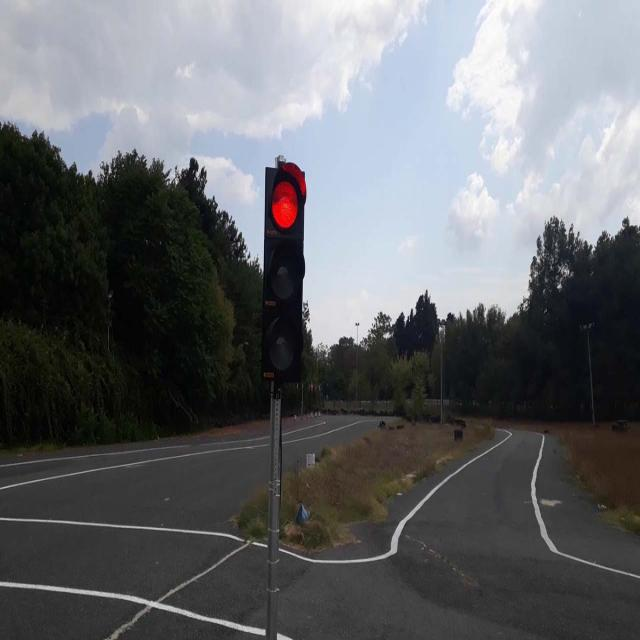kirmizi: (265, 162, 302, 380)
